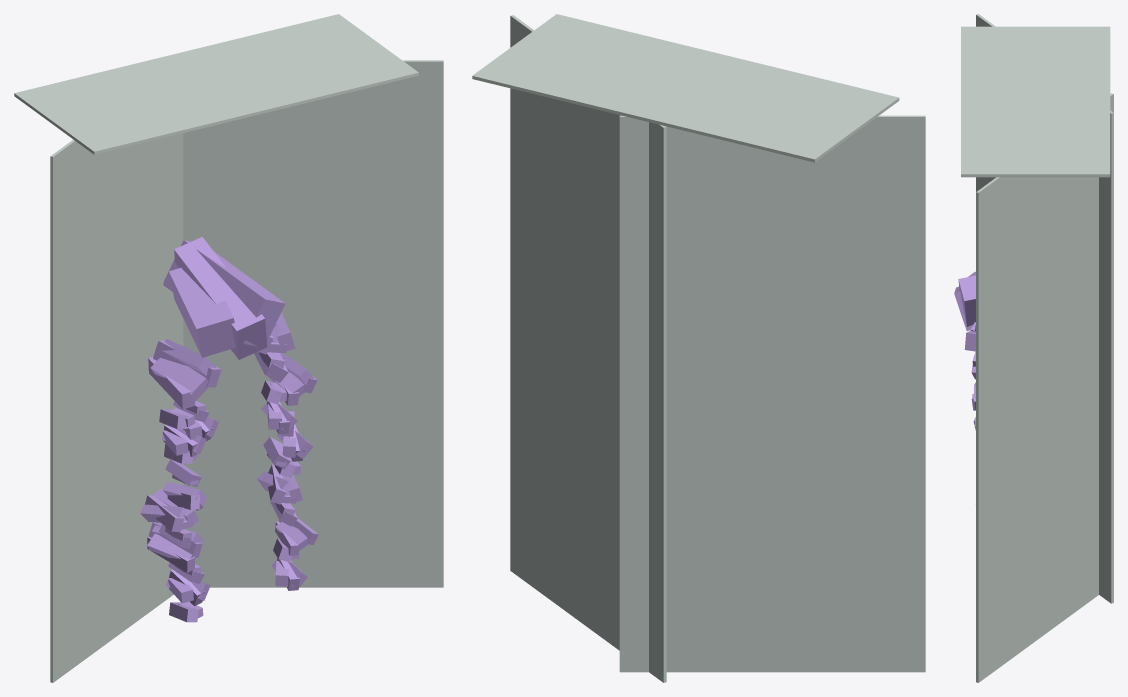
File: notrees.dae
3 renders of one model, left to right at view 1: azimuth 30°, elevation 25°; view 2: azimuth 150°, elevation 25°; view 3: azimuth 270°, elevation 25°, orthographic. The views are drawn at different scales.
Visible parts, largest first — view 1: Cube.020, Cube.021, Cube.022, Cube.510, Cube.511, Cube.509, Cube.247, Cube.246, Cube.248; view 2: Cube.021, Cube.020, Cube.022; view 3: Cube.020, Cube.022, Cube.021, Cube.509.
Boxes of the visible parts, box(x1,y1,x2,y2) form: Cube.020: box(183, 60, 443, 587); Cube.021: box(50, 133, 183, 682); Cube.022: box(14, 14, 418, 154); Cube.510: box(174, 236, 267, 359); Cube.511: box(169, 268, 235, 357); Cube.509: box(163, 240, 285, 346); Cube.247: box(150, 357, 207, 401); Cube.246: box(148, 357, 195, 409); Cube.248: box(162, 339, 216, 375); Cube.021: box(619, 115, 925, 672); Cube.020: box(510, 15, 666, 682); Cube.022: box(472, 14, 899, 162); Cube.020: box(976, 93, 1113, 682); Cube.022: box(961, 26, 1110, 177); Cube.021: box(976, 14, 1113, 603); Cube.509: box(958, 275, 975, 326).
Bounding box in the file's own units: 251 × 94.52 × 322.
